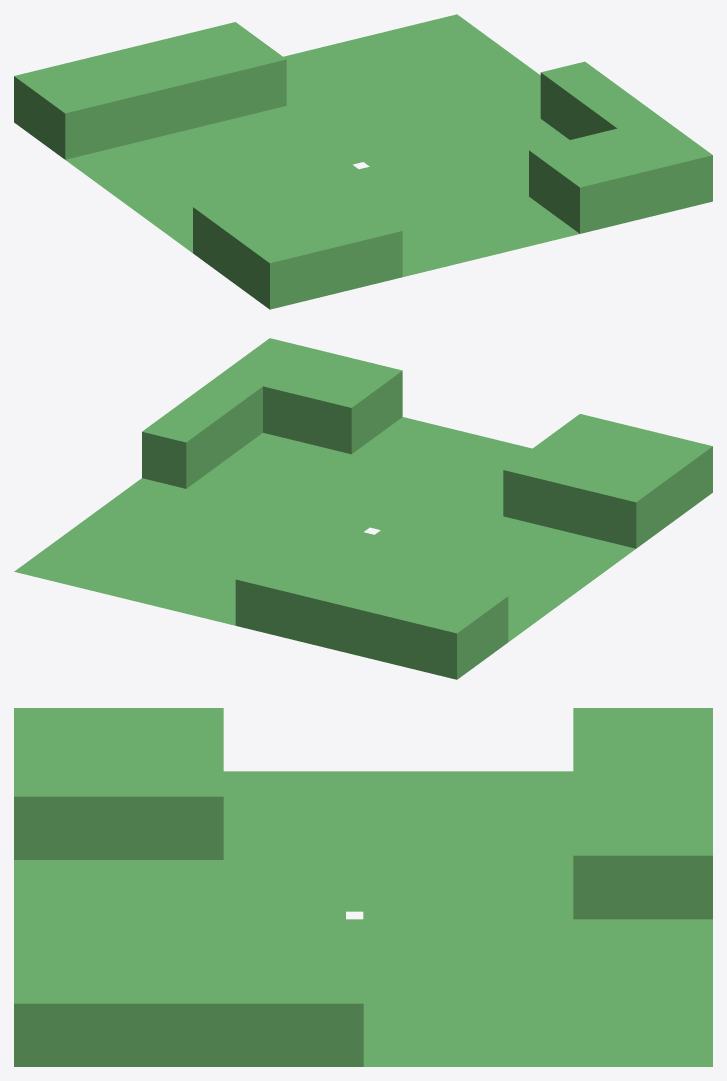
File: Ground.fbx
3 renders of one model, top to bottom at view 1: azimuth 30°, elevation 25°; view 2: azimuth 150°, elevation 25°; view 3: azimuth 270°, elevation 25°, orthographic. The views are drawn at different scales.
Visible parts, largest first — view 1: Ground; view 2: Ground; view 3: Ground.
Part boxes in pixels (x1,y1,x2,y2): Ground: [14, 14, 712, 309]; Ground: [14, 338, 712, 679]; Ground: [14, 708, 712, 1066].
Size of the model in its own units: 10000 by 1000 by 10000.
